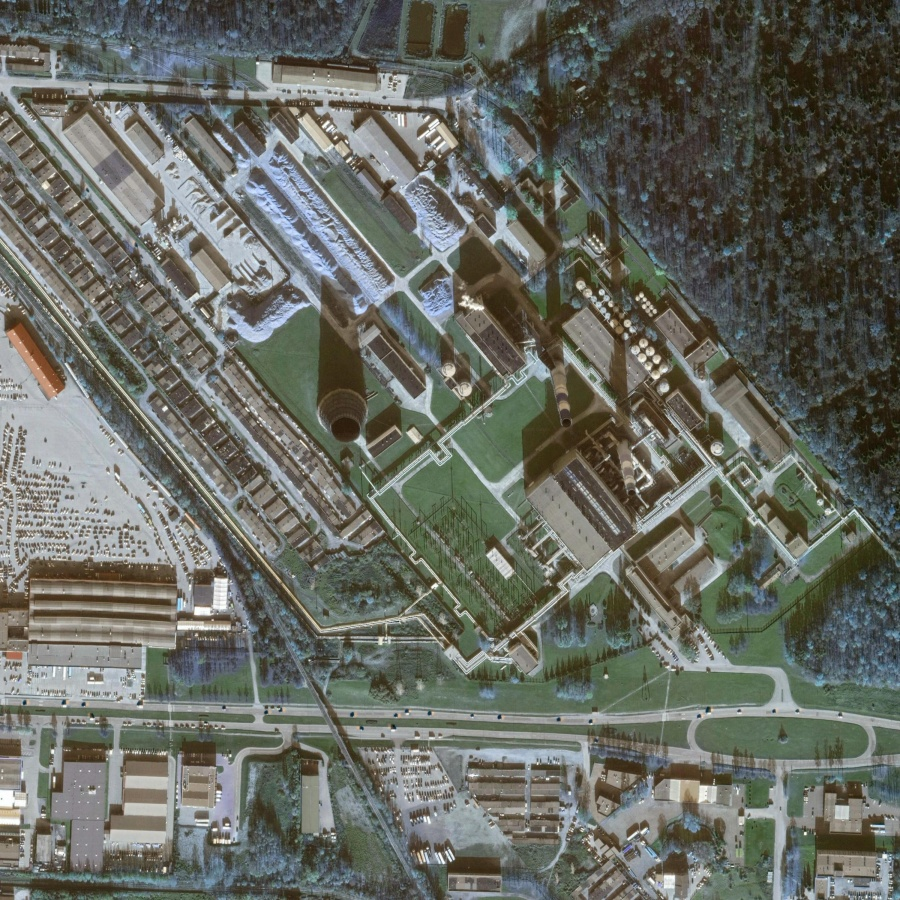PowerPlant: (292, 166, 828, 613)
